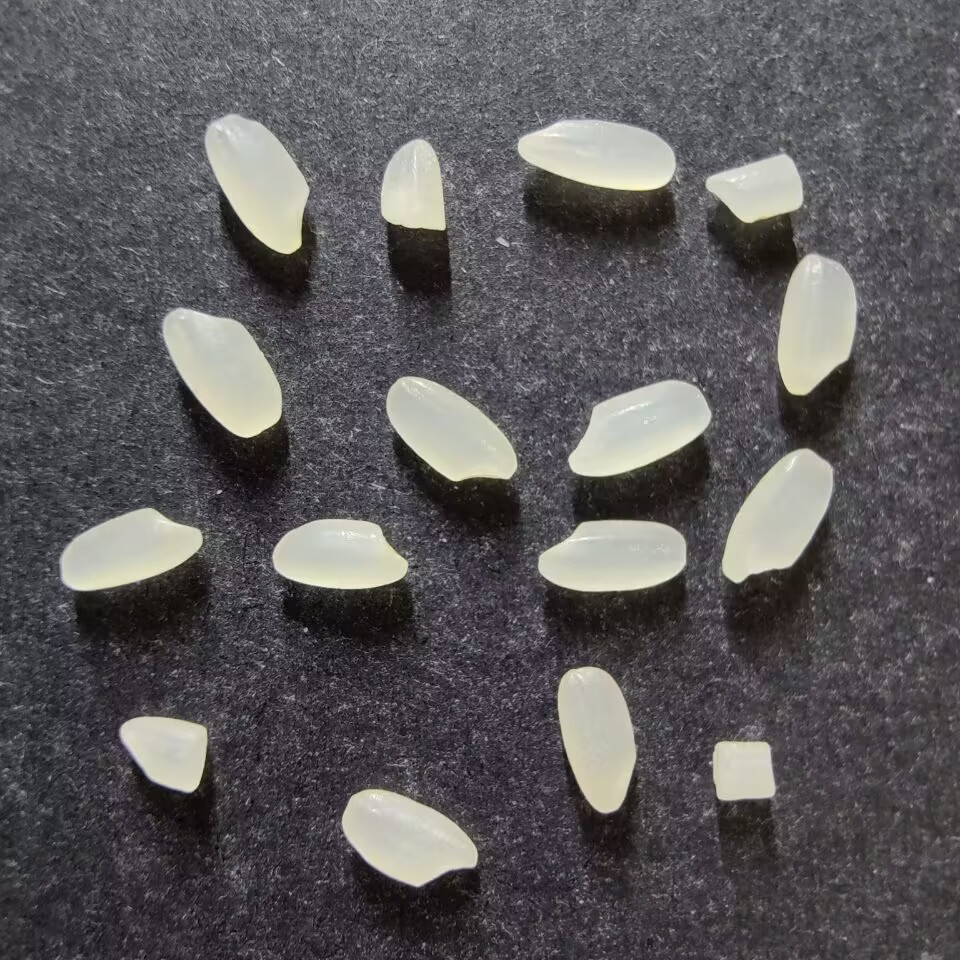broken: (119, 716, 207, 794), (705, 153, 803, 223), (380, 138, 446, 232), (712, 739, 776, 802)
rice: (161, 306, 282, 439), (719, 447, 834, 584), (203, 114, 310, 254), (567, 379, 710, 478), (385, 375, 517, 482), (340, 788, 479, 888), (59, 506, 203, 592), (556, 665, 637, 814), (516, 118, 676, 191), (776, 252, 857, 396), (536, 518, 688, 592), (271, 518, 409, 590)
